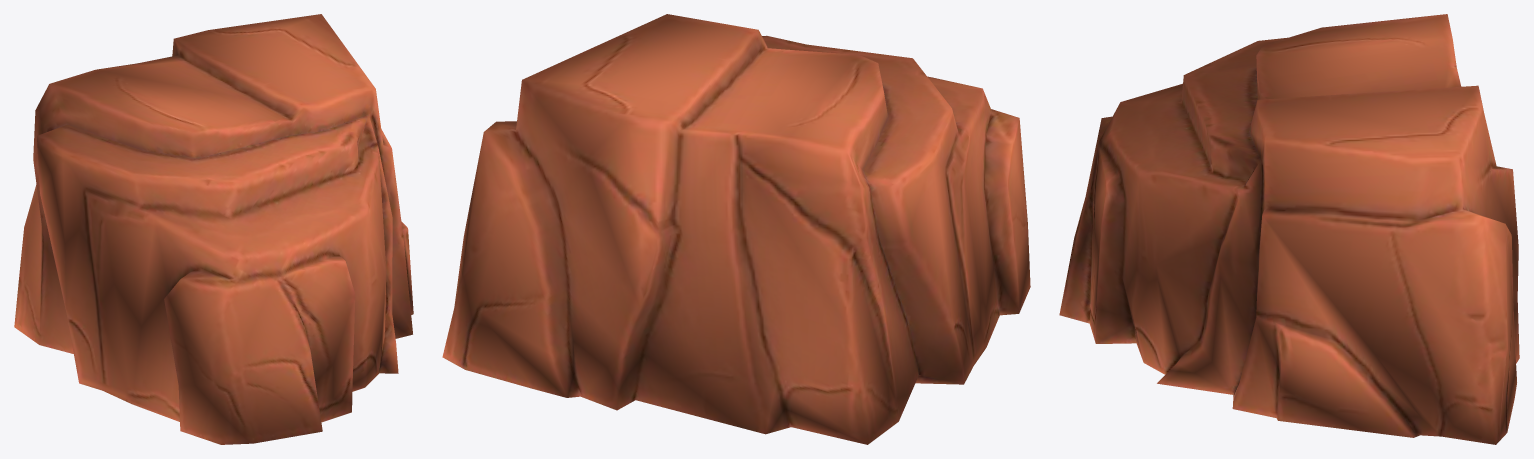
File: gorge-cliff-3.glb
3 views of the same model, side by side, from view 1: azimuth 30°, elevation 25°; view 2: azimuth 150°, elevation 25°; view 3: azimuth 270°, elevation 25° (orthographic). The views are drawn at different scales.
Parts seen in each view (by area): view 1: GorgeCliff3; view 2: GorgeCliff3; view 3: GorgeCliff3.
Boxes of the visible parts, bbox=[...] form: GorgeCliff3: bbox=[14, 14, 413, 444]; GorgeCliff3: bbox=[442, 14, 1030, 444]; GorgeCliff3: bbox=[1059, 14, 1519, 444].
Size of the model in its own units: 3.15 by 2 by 3.2.
1 material, 1 textured.
